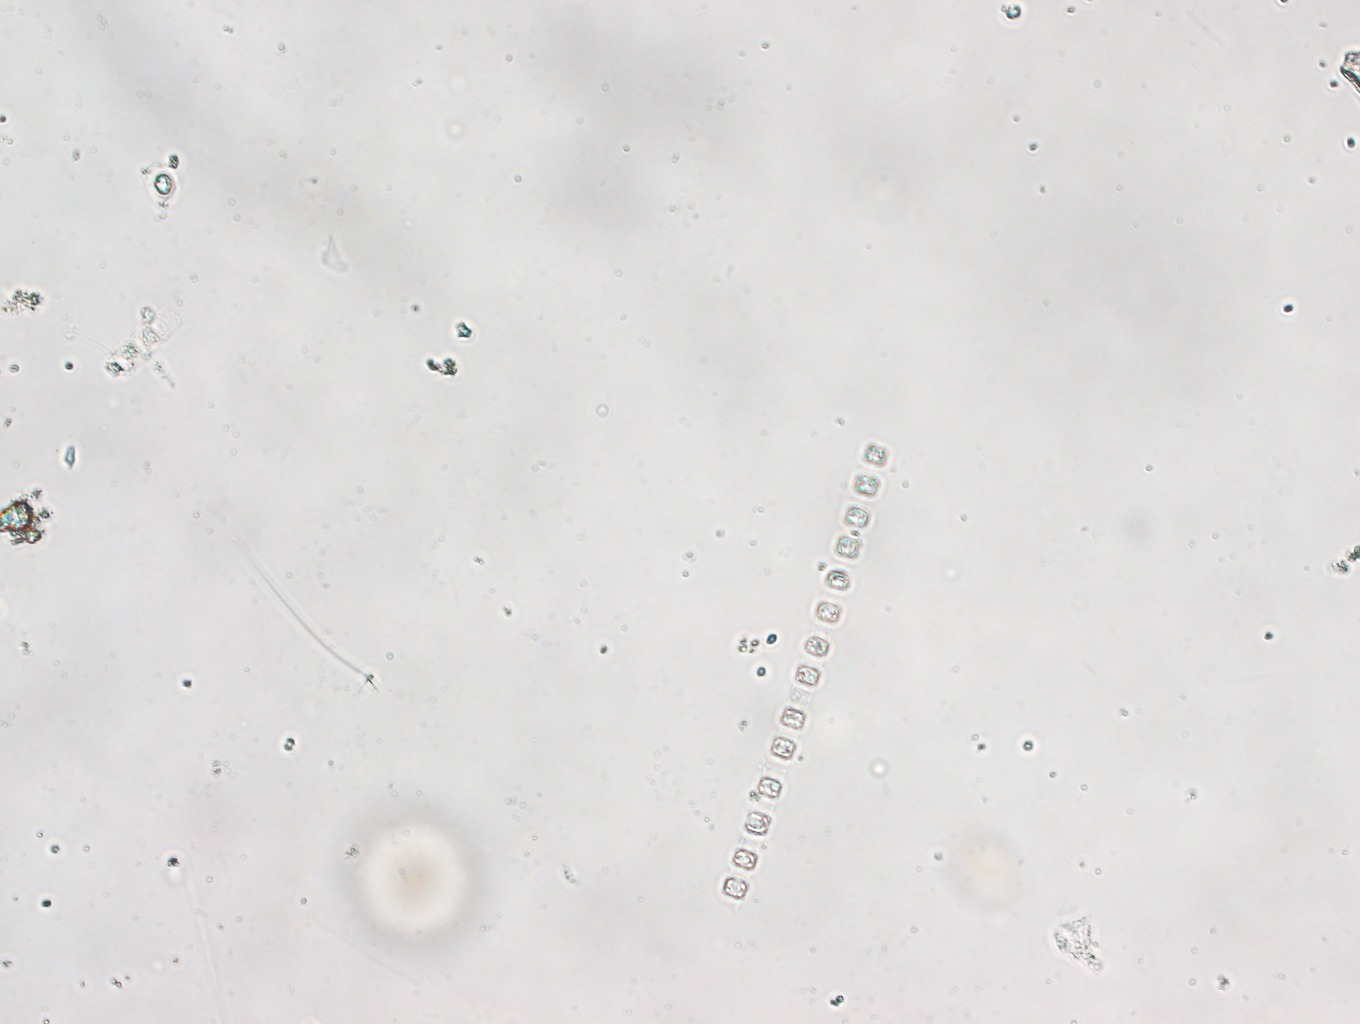skeletonema: (722, 441, 892, 902)
